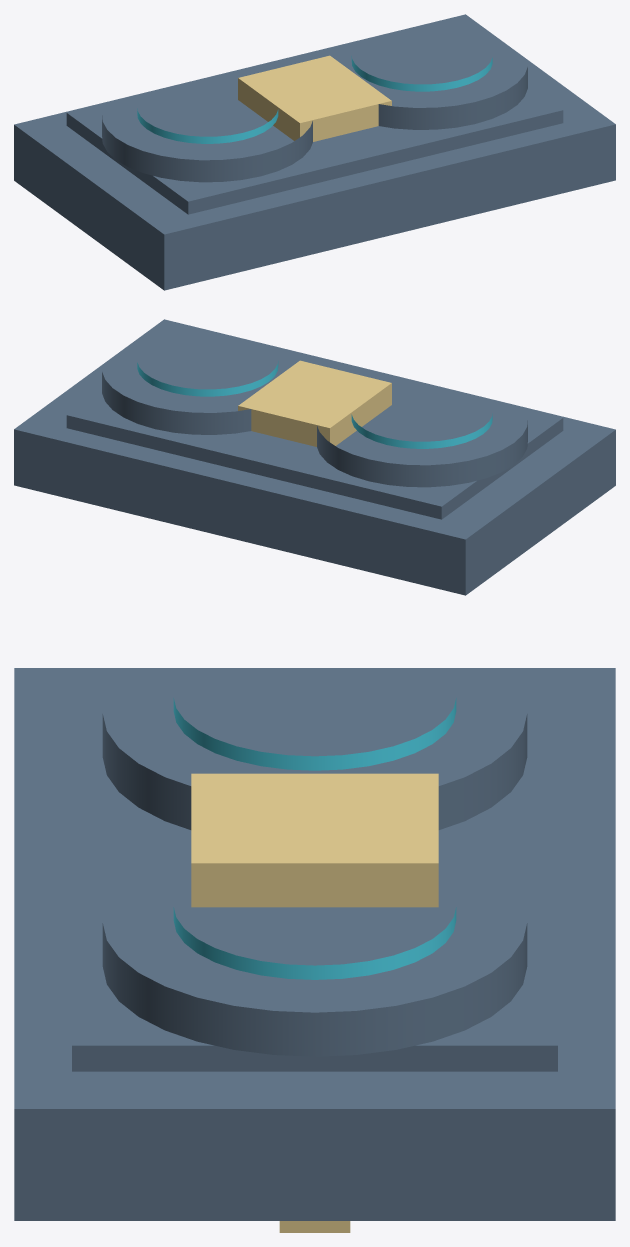
File: tarjeta-grafica.gltf
3 renders of one model, top to bottom at view 1: azimuth 30°, elevation 25°; view 2: azimuth 150°, elevation 25°; view 3: azimuth 270°, elevation 25°, orthographic. The views are drawn at different scales.
Visible parts, largest first — view 1: Parte_1, Parte_2, Parte_7, GPU_Fan_Left, GPU_Fan_Right, GPU_FanHub_Left, GPU_FanHub_Right; view 2: Parte_1, Parte_2, Parte_7, GPU_Fan_Left, GPU_Fan_Right, GPU_FanHub_Left, GPU_FanHub_Right; view 3: Parte_1, Parte_2, Parte_7, GPU_Fan_Right, GPU_Fan_Left, GPU_FanHub_Right, GPU_FanHub_Left, Parte_8.
Part boxes in pixels (x1,y1,x2,y2): Parte_1: (14,14,615,290); Parte_2: (66,21,563,214); Parte_7: (238,55,391,141); GPU_Fan_Left: (102,115,312,182); GPU_Fan_Right: (378,67,527,129); GPU_FanHub_Left: (137,108,278,143); GPU_FanHub_Right: (351,56,492,91); Parte_1: (14,319,615,595); Parte_2: (66,326,563,519); Parte_7: (238,360,391,446); GPU_Fan_Left: (317,420,527,487); GPU_Fan_Right: (102,372,251,434); GPU_FanHub_Left: (351,413,492,448); GPU_FanHub_Right: (137,361,278,396); Parte_1: (14,668,615,1220); Parte_2: (72,679,557,1071); Parte_7: (191,773,438,907); GPU_Fan_Right: (102,923,527,1056); GPU_Fan_Left: (102,714,527,829); GPU_FanHub_Right: (173,907,456,979); GPU_FanHub_Left: (173,698,456,770); Parte_8: (279,1221,350,1232).
Size of the model in its own units: 1.18 by 0.294 by 0.68.
